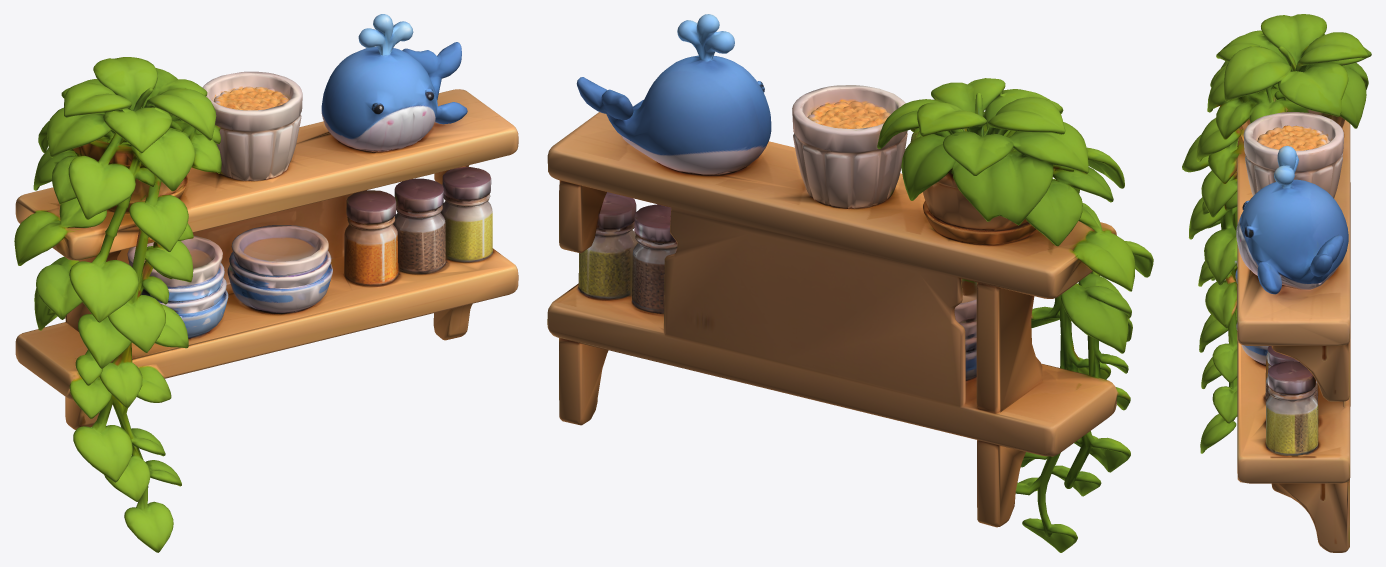
File: wall-shelf.glb
The picture shows the model from 3 angles, left to right: view 1: azimuth 30°, elevation 25°; view 2: azimuth 150°, elevation 25°; view 3: azimuth 270°, elevation 25°; orthographic projection. The views are drawn at different scales.
Parts seen in each view (by area): view 1: 置物架_用户新原件完整网格; view 2: 置物架_用户新原件完整网格; view 3: 置物架_用户新原件完整网格.
Part boxes in pixels (x1,y1,x2,y2): 置物架_用户新原件完整网格: [14, 14, 518, 552]; 置物架_用户新原件完整网格: [547, 14, 1153, 552]; 置物架_用户新原件完整网格: [1182, 14, 1371, 552].
Bounding box in the file's own units: 1.61 × 1.41 × 0.5558.
Materials: 1 (1 with a texture image).
